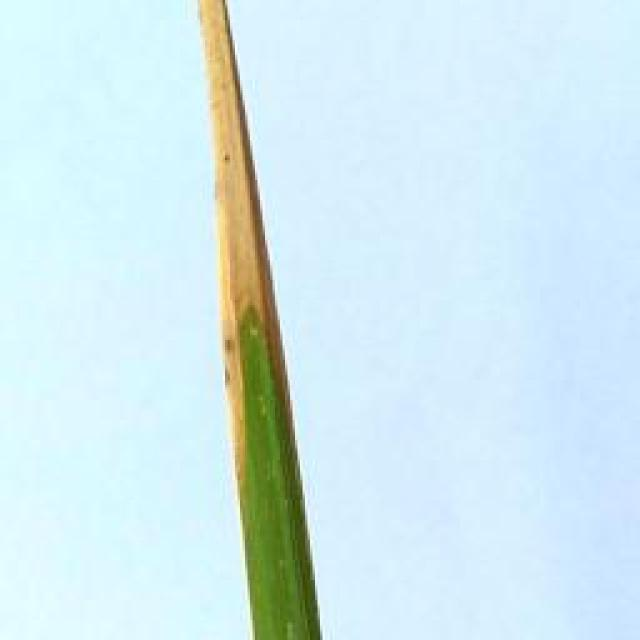Bacterial_Blight: (181, 1, 341, 496)
Brown_Spot: (215, 355, 254, 385), (216, 329, 246, 351)
